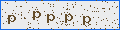p: (83, 16, 91, 25), (65, 14, 73, 23), (47, 14, 55, 23), (33, 11, 41, 20), (8, 15, 16, 24)
